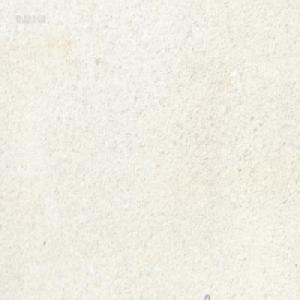Washer: (203, 292, 210, 300)
